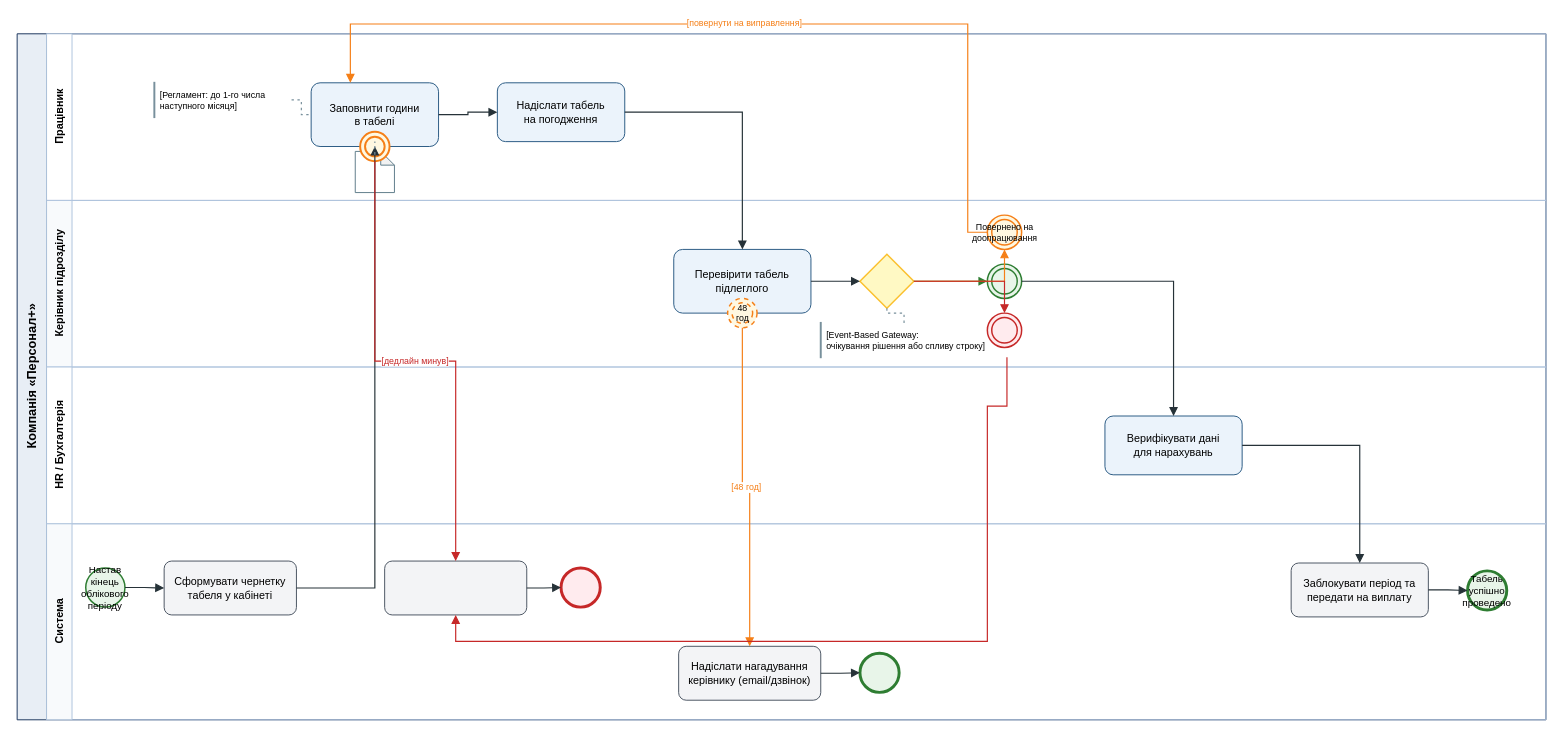
Image size: 1563x738. Some labels were removed from this diagram. The shapes that lost their labels are listed below. From the top down, each one's centre as x and y in pixels, then its label:
(374,146): 3 дні
(374,171): Звіт годин
(886,281): Шлюз подій
(1004,281): Табель погоджено
(1004,330): 5 днів минуло
(455,587): Застосувати нарахування за замовчуванням
(580,587): Табель не подано — розрахунок за нормою
(879,672): Нагадування надіслано
